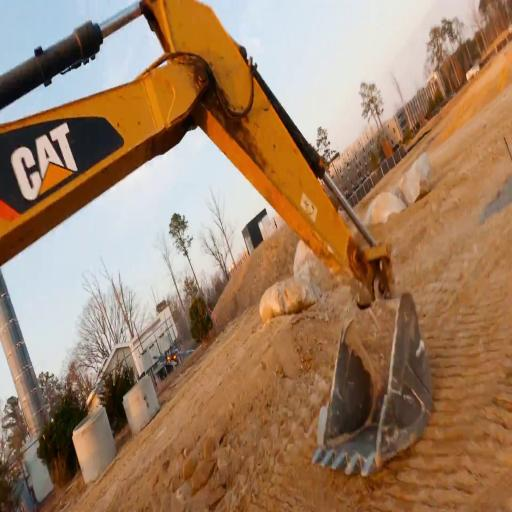uav: (145, 344, 197, 369)
